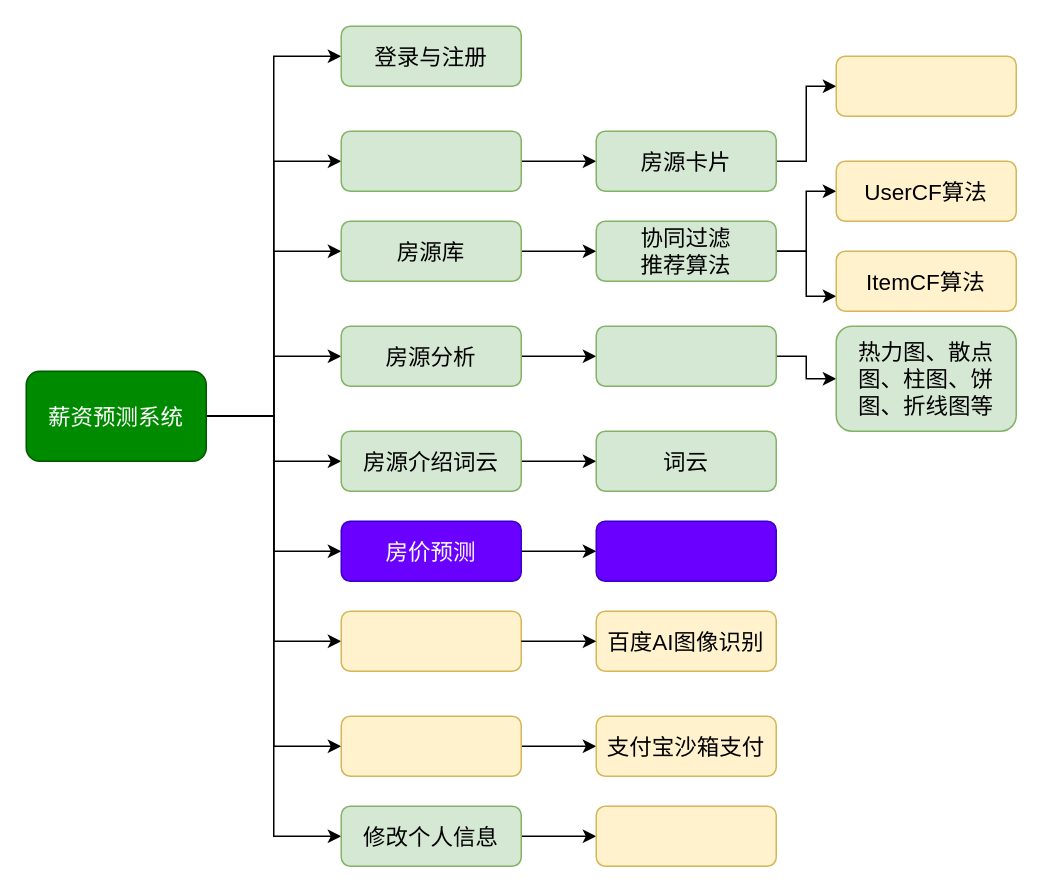
Image size: 1043x893. Some labels were removed from this diagram. The shapes that lost their labels are listed below. From the top down, each one's centre as x and y in pixels, then its label:
At (925,85): "查看地图位置；浏览房源图片".
At (430,160): "首页".
At (685,355): "Echarts分析大屏".
At (685,550): "支持向量机".
At (430,640): "身份证识别".
At (430,745): "充值".
At (685,835): "阿里短信验证码修改密码".
